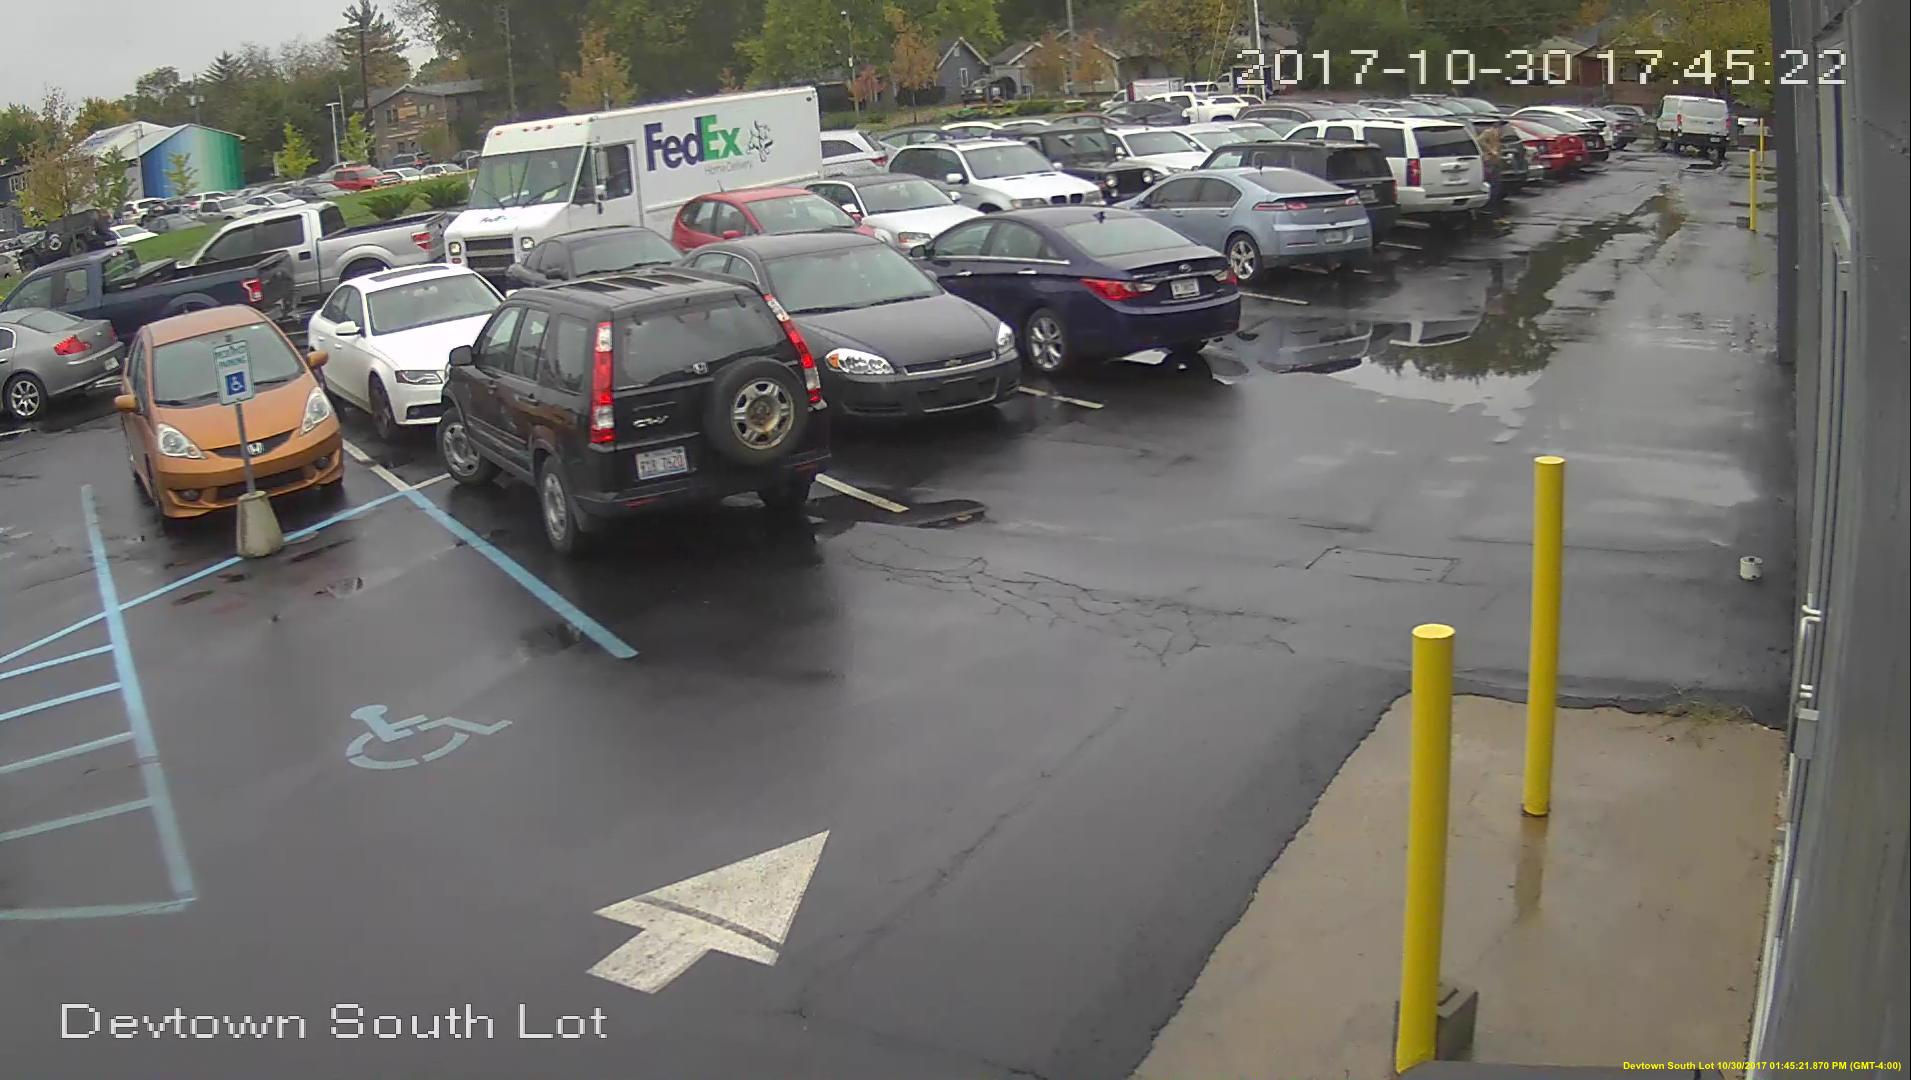fedex_truck: (446, 89, 814, 293)
